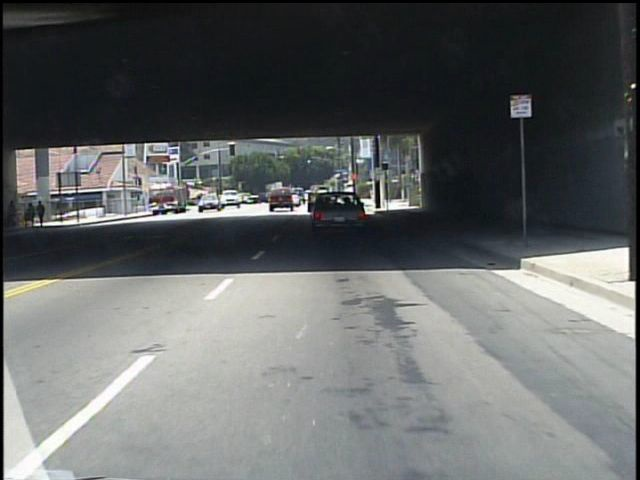person: (24, 202, 37, 231), (38, 201, 49, 231)
